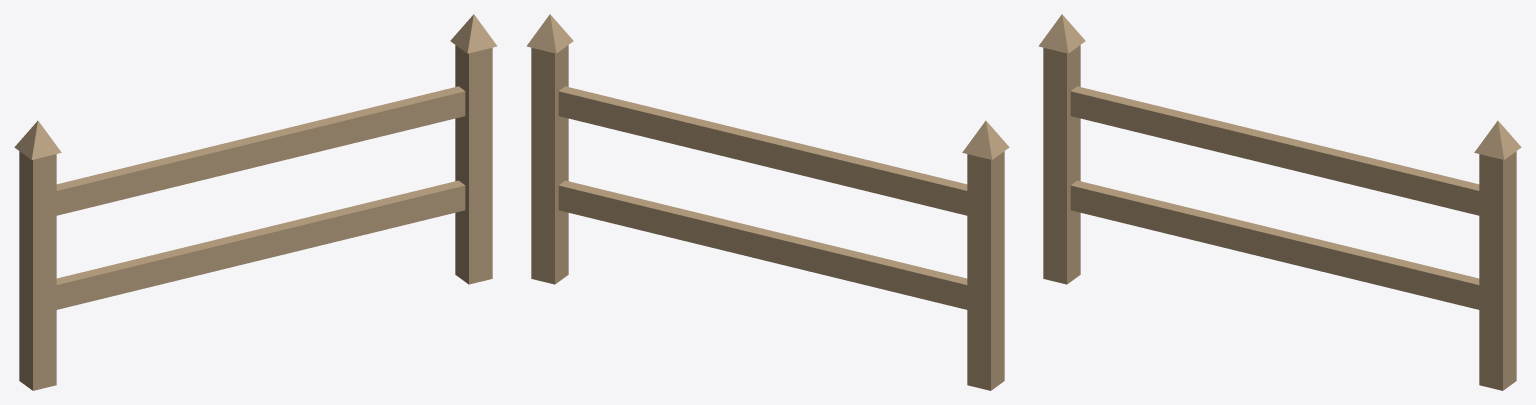
The model's file is valla.glb.
3 views of the same model, side by side, from view 1: azimuth 30°, elevation 25°; view 2: azimuth 150°, elevation 25°; view 3: azimuth 330°, elevation 25° (orthographic).
Visible parts, largest first — view 1: valla; view 2: valla; view 3: valla.
Part boxes in pixels (<box>): valla: <box>14,14,497,390</box>; valla: <box>526,14,1009,390</box>; valla: <box>1038,14,1521,390</box>.
Size of the model in its own units: 1.97 by 1.06 by 0.1273.
